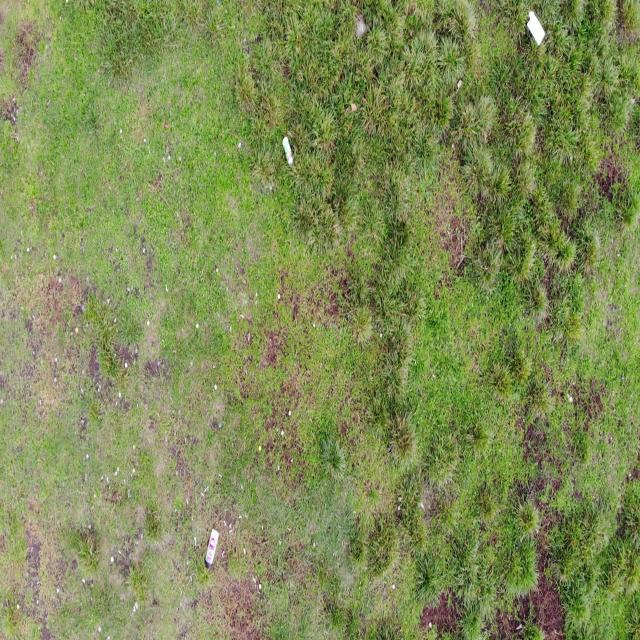rubbish: (527, 8, 546, 49), (202, 528, 220, 570), (280, 138, 296, 167)
